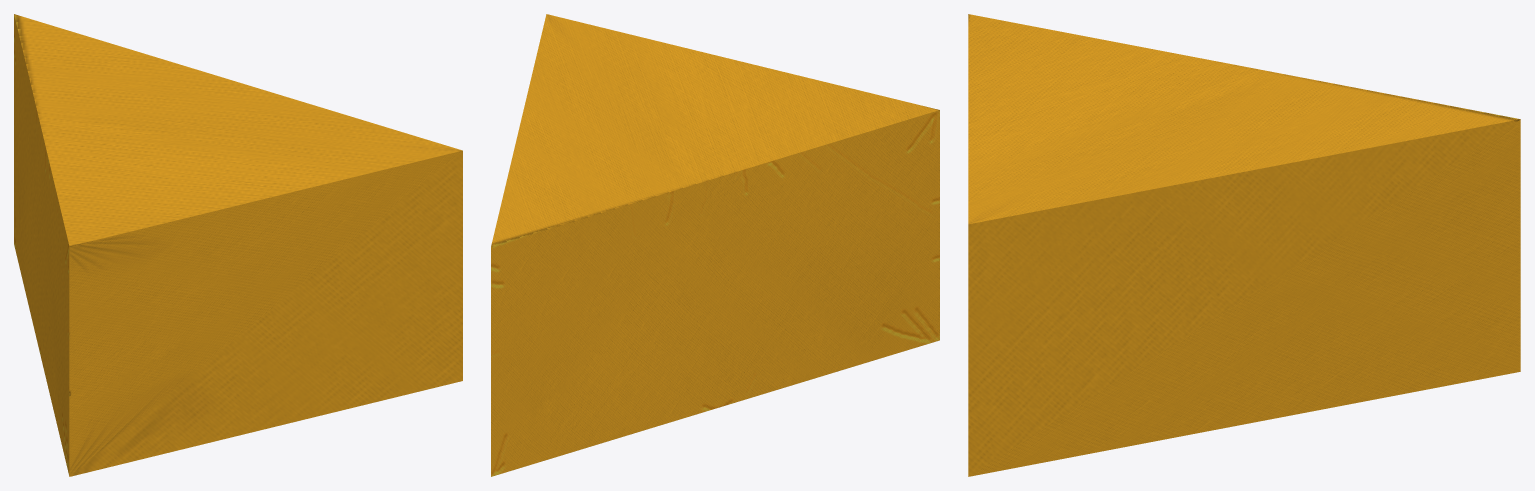
Rendered from OBS0110039.fbx.
The picture shows the model from 3 angles, left to right: view 1: azimuth 30°, elevation 25°; view 2: azimuth 150°, elevation 25°; view 3: azimuth 270°, elevation 25°; orthographic projection. The views are drawn at different scales.
Parts seen in each view (by area): view 1: smOBS0110039; view 2: smOBS0110039; view 3: smOBS0110039.
Part boxes in pixels (left/top/right/bottom): smOBS0110039: left=14, top=14, right=462, bottom=476; smOBS0110039: left=491, top=14, right=939, bottom=476; smOBS0110039: left=968, top=14, right=1520, bottom=476.
Bounding box in the file's own units: 204 × 114 × 227.
1 material, 1 textured.
